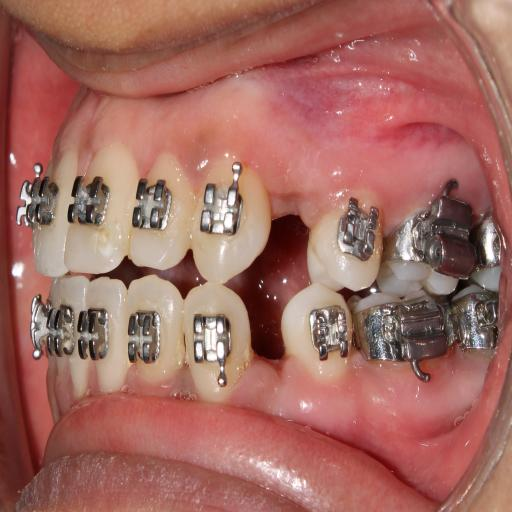correct_brace: (197, 162, 250, 241), (189, 309, 238, 393), (303, 301, 350, 367), (131, 175, 172, 238), (127, 305, 163, 369)
incorrect_brace: (127, 149, 191, 275), (125, 272, 185, 394)
